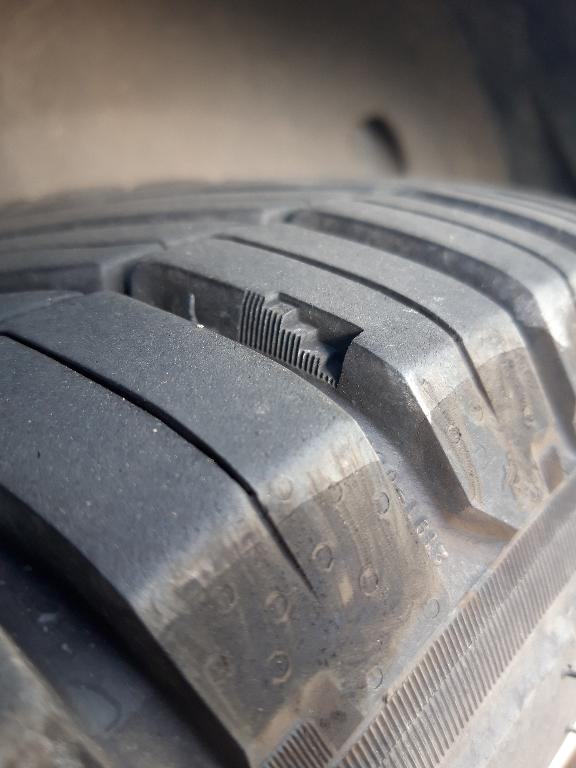temoin:90: (231, 280, 371, 399)
